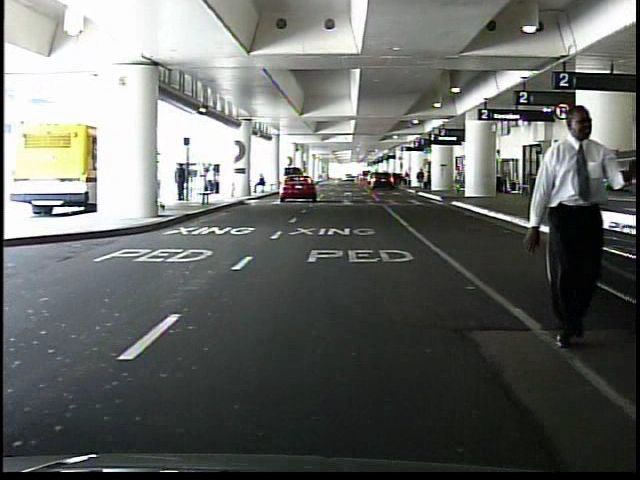person: (531, 99, 616, 352), (174, 161, 189, 203), (450, 167, 463, 194), (255, 172, 270, 195), (415, 167, 425, 191)
